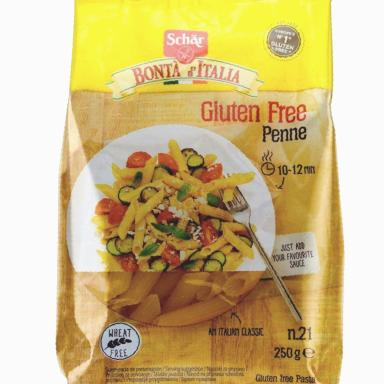pasta package: (57, 0, 343, 383)
